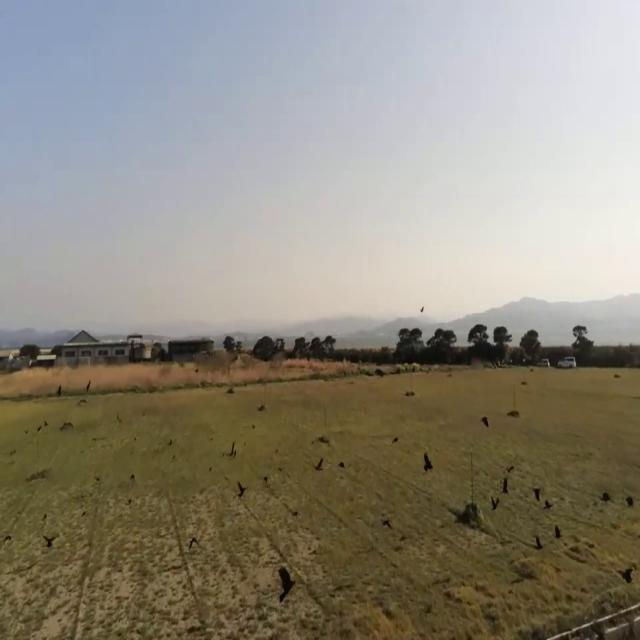bird: (503, 462, 513, 495), (236, 474, 247, 502), (314, 452, 324, 478), (491, 488, 499, 518), (505, 458, 514, 484), (228, 434, 236, 463)
